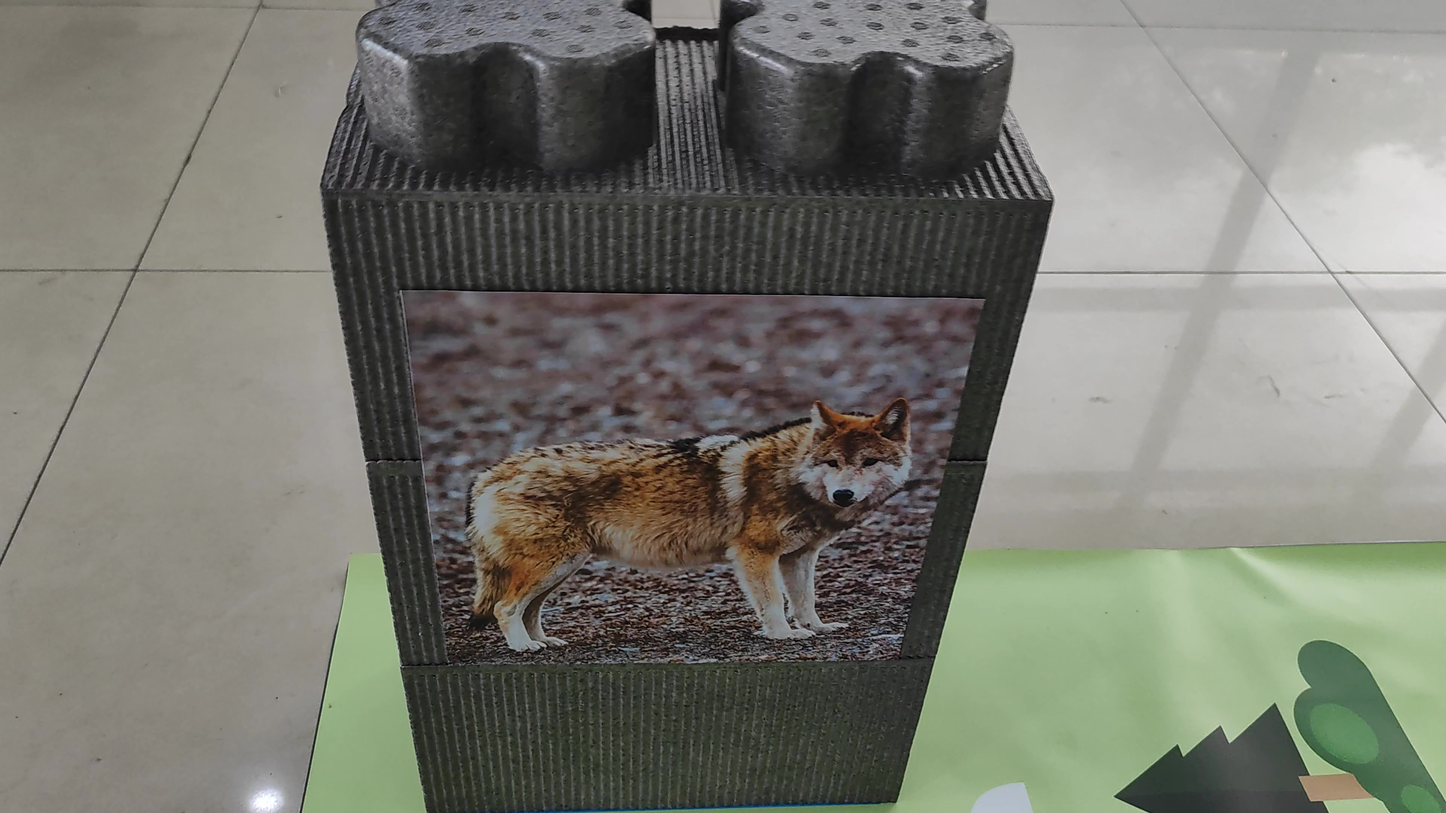wolf: (430, 359, 913, 677)
